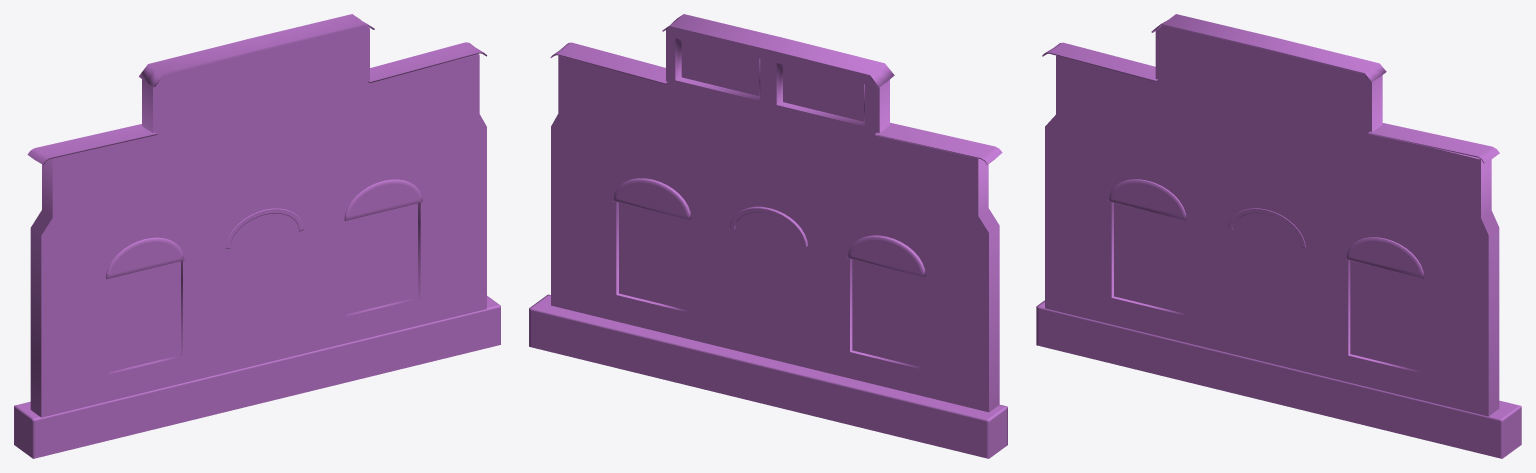
The model's file is IndBuilding2_End_B.fbx.
3 views of the same model, side by side, from view 1: azimuth 30°, elevation 25°; view 2: azimuth 150°, elevation 25°; view 3: azimuth 330°, elevation 25° (orthographic).
Visible parts, largest first — view 1: IndBuilding2_End_B; view 2: IndBuilding2_End_B; view 3: IndBuilding2_End_B.
Part boxes in pixels (<box>): IndBuilding2_End_B: <box>14,14,500,458</box>; IndBuilding2_End_B: <box>529,14,1007,458</box>; IndBuilding2_End_B: <box>1036,14,1521,458</box>.
Size of the model in its own units: 12.6 by 9.17 by 1.03.
